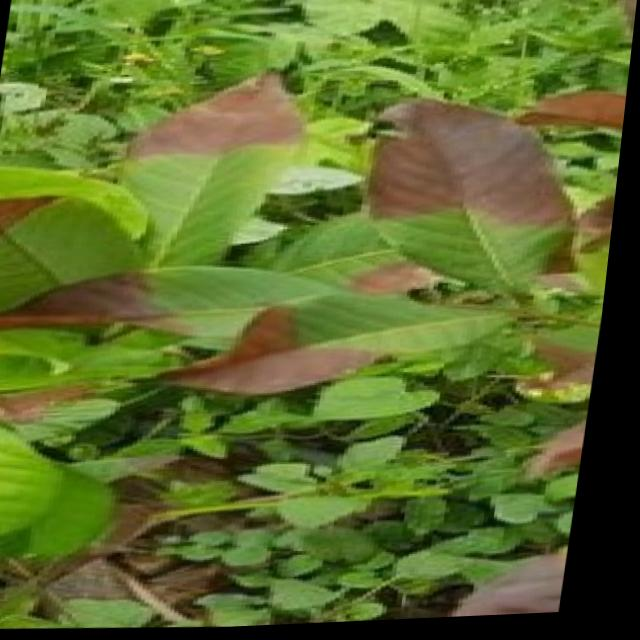Leaf Blight: (0, 260, 457, 402), (352, 66, 632, 292), (174, 35, 322, 182), (0, 169, 122, 307)
